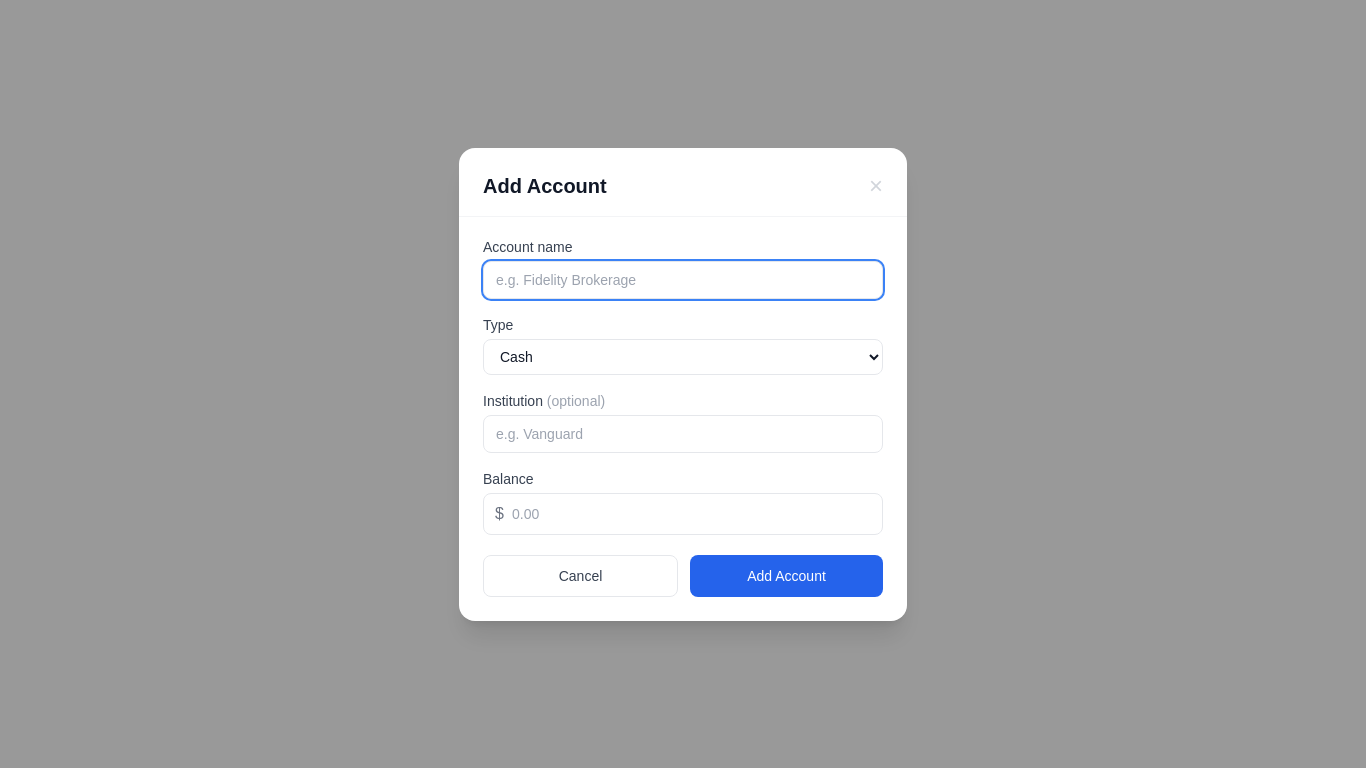
Test: AccountEditModal — add mode › rejects an empty name
Type "100" into the number field labelled "Balance".
click(683, 514); type("100")  # box [483,492,883,534]
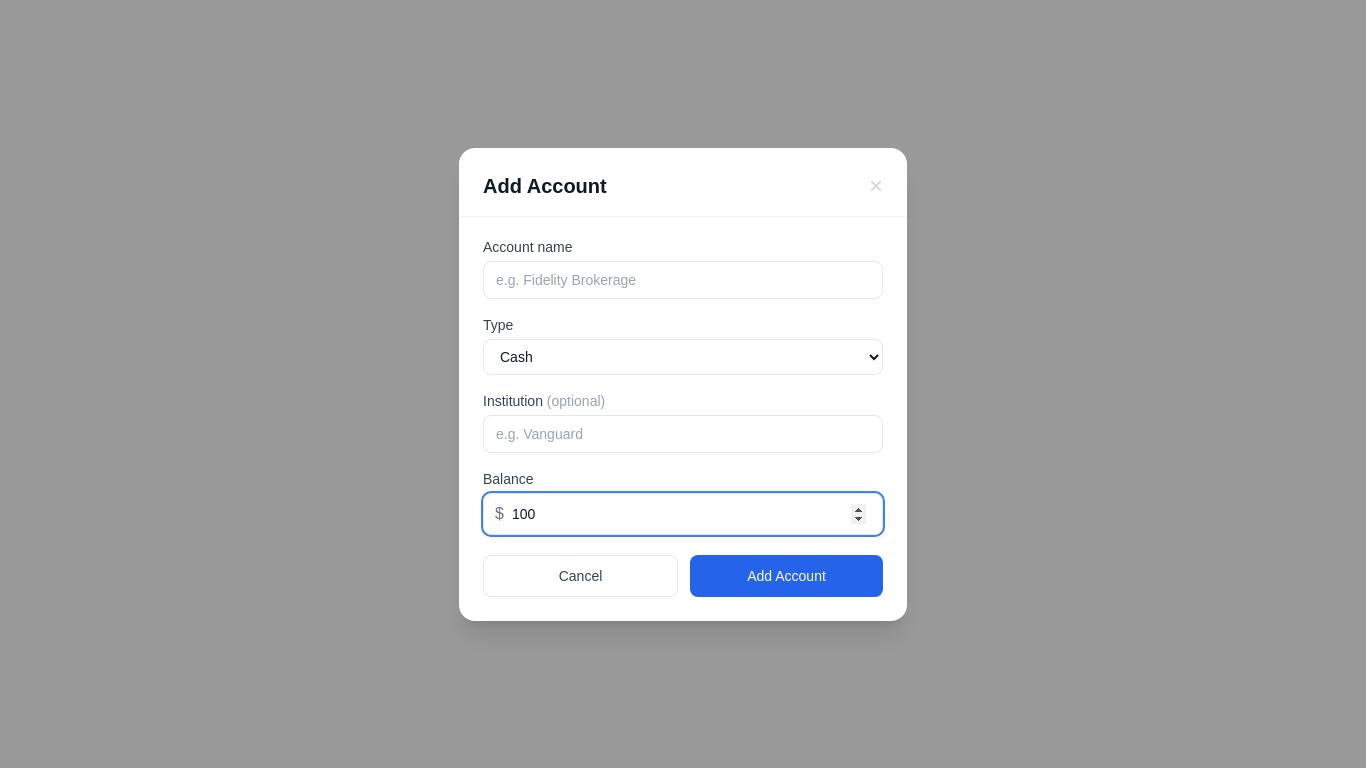
Click the button "Add Account".
click(786, 576)  # box [690,554,883,596]
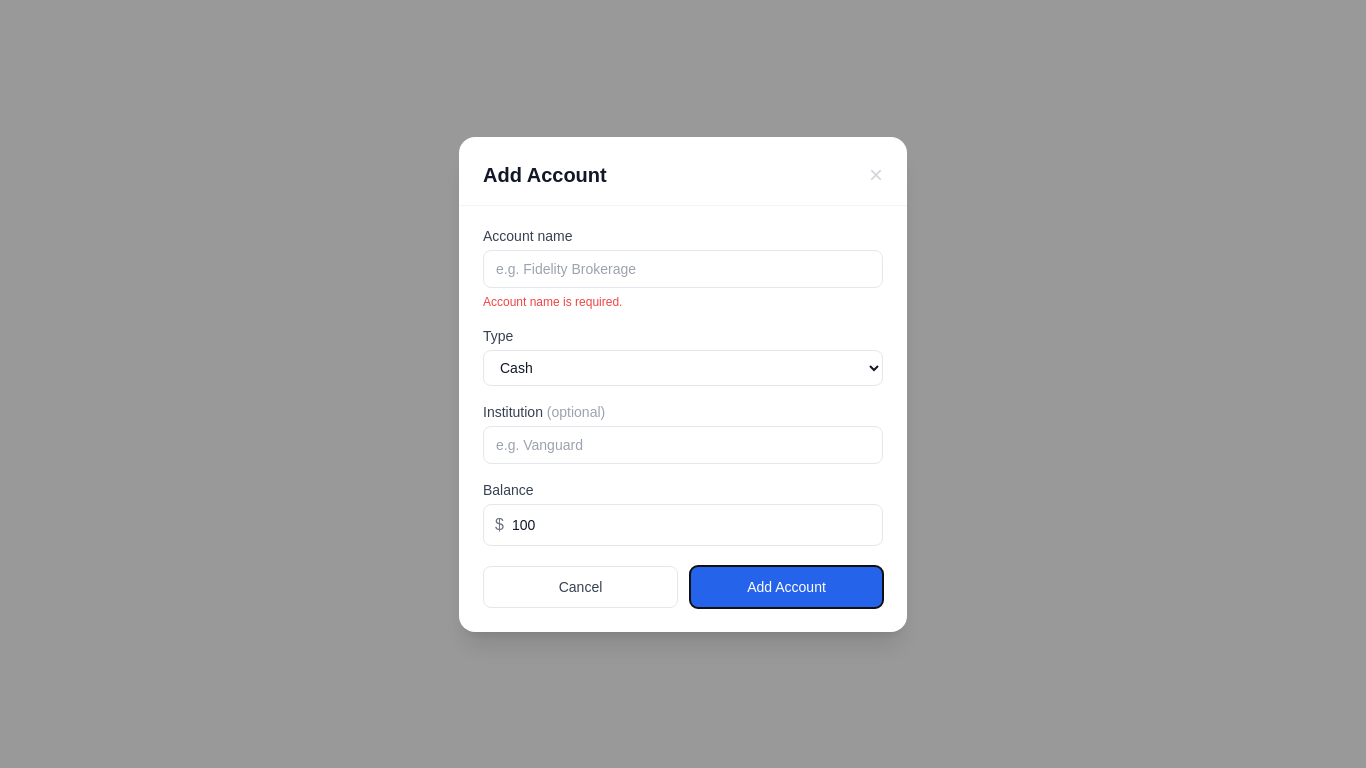
Now the text "Account name is required." is shown, box [483,294,622,308]
